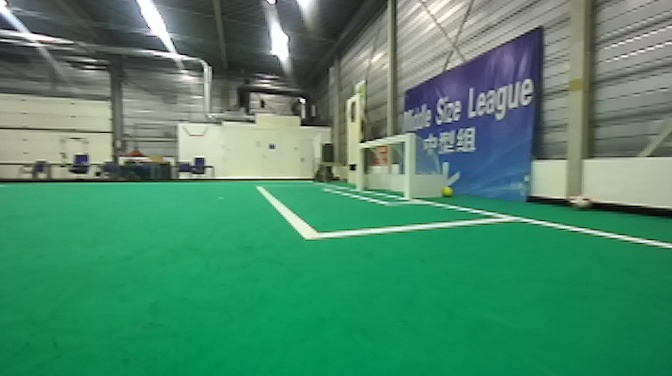ball: (565, 189, 595, 215), (437, 183, 455, 197)
goalpost: (395, 128, 426, 205), (351, 137, 369, 197)
